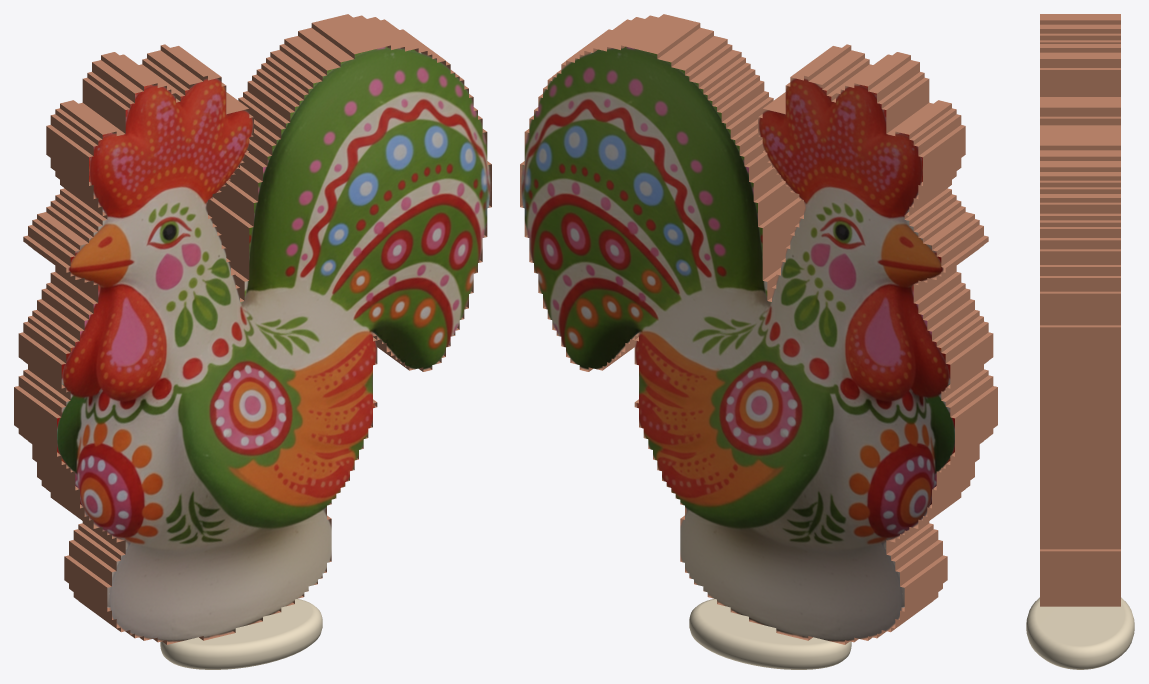
File: ar-rooster.glb
3 renders of one model, left to right at view 1: azimuth 30°, elevation 25°; view 2: azimuth 150°, elevation 25°; view 3: azimuth 270°, elevation 25°, orthographic. The views are drawn at different scales.
Parts seen in each view (by area): view 1: ToyArtworkSilhouette, SmallRoundedDisplayFoot; view 2: ToyArtworkSilhouette, SmallRoundedDisplayFoot; view 3: ToyArtworkSilhouette, SmallRoundedDisplayFoot.
Part boxes in pixels (box(x1,y1,x2,y2)): ToyArtworkSilhouette: box(14, 14, 491, 644); SmallRoundedDisplayFoot: box(160, 598, 322, 669); ToyArtworkSilhouette: box(520, 14, 997, 644); SmallRoundedDisplayFoot: box(689, 598, 851, 669); ToyArtworkSilhouette: box(1040, 14, 1120, 606); SmallRoundedDisplayFoot: box(1026, 597, 1134, 669).
Bounding box in the file's own units: 0.1488 × 0.1973 × 0.034.
3 materials, 1 textured.
